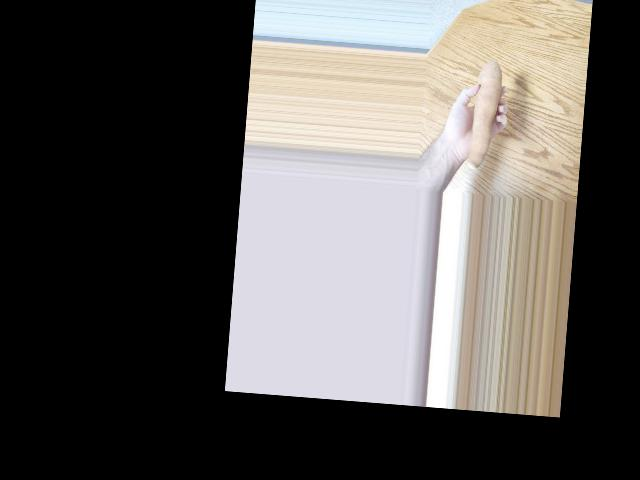sweet_potato: (469, 55, 511, 167)
